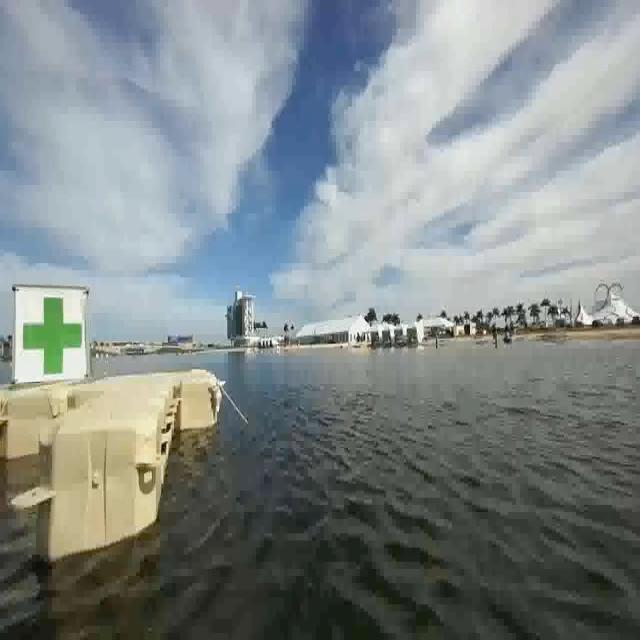blue-cross: (14, 285, 86, 382)
